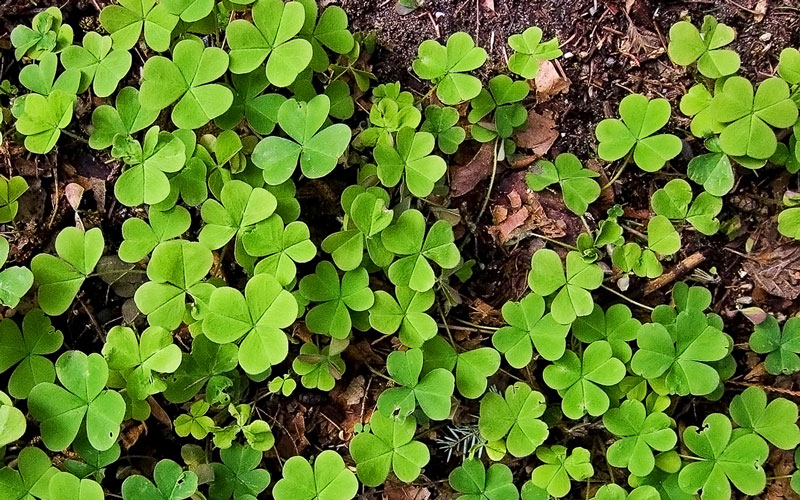oxalis: (39, 20, 800, 492)
